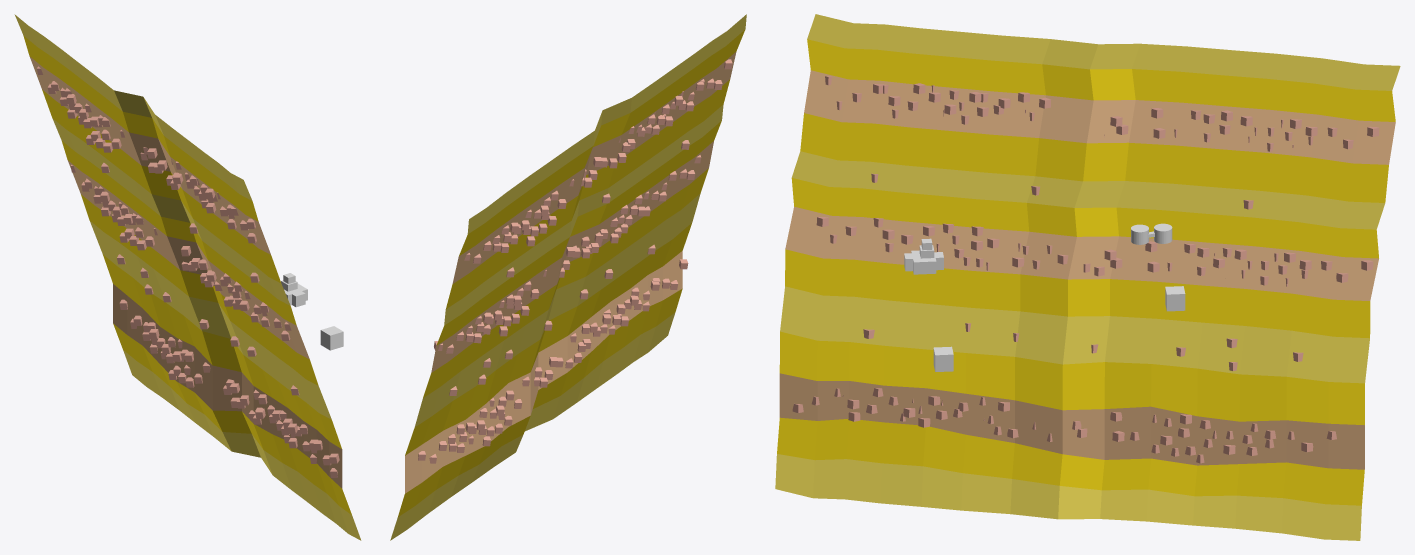
Rendered from big wall.glb.
The picture shows the model from 3 angles, left to right: view 1: azimuth 30°, elevation 25°; view 2: azimuth 150°, elevation 25°; view 3: azimuth 270°, elevation 25°; orthographic projection. The views are drawn at different scales.
Parts seen in each view (by area): view 1: Cube, Cube.002, Cube.003; view 2: Cube; view 3: Cube, Cube.002, Cylinder.
Boxes of the visible parts, x1,y1,x2,y2 form: Cube: (14, 14, 361, 540); Cube.002: (281, 273, 307, 307); Cube.003: (320, 326, 343, 350); Cube: (390, 14, 746, 540); Cube: (775, 14, 1400, 540); Cube.002: (904, 238, 943, 274); Cylinder: (1131, 223, 1172, 244).
Size of the model in its own units: 8.09 by 20.41 by 25.4.
